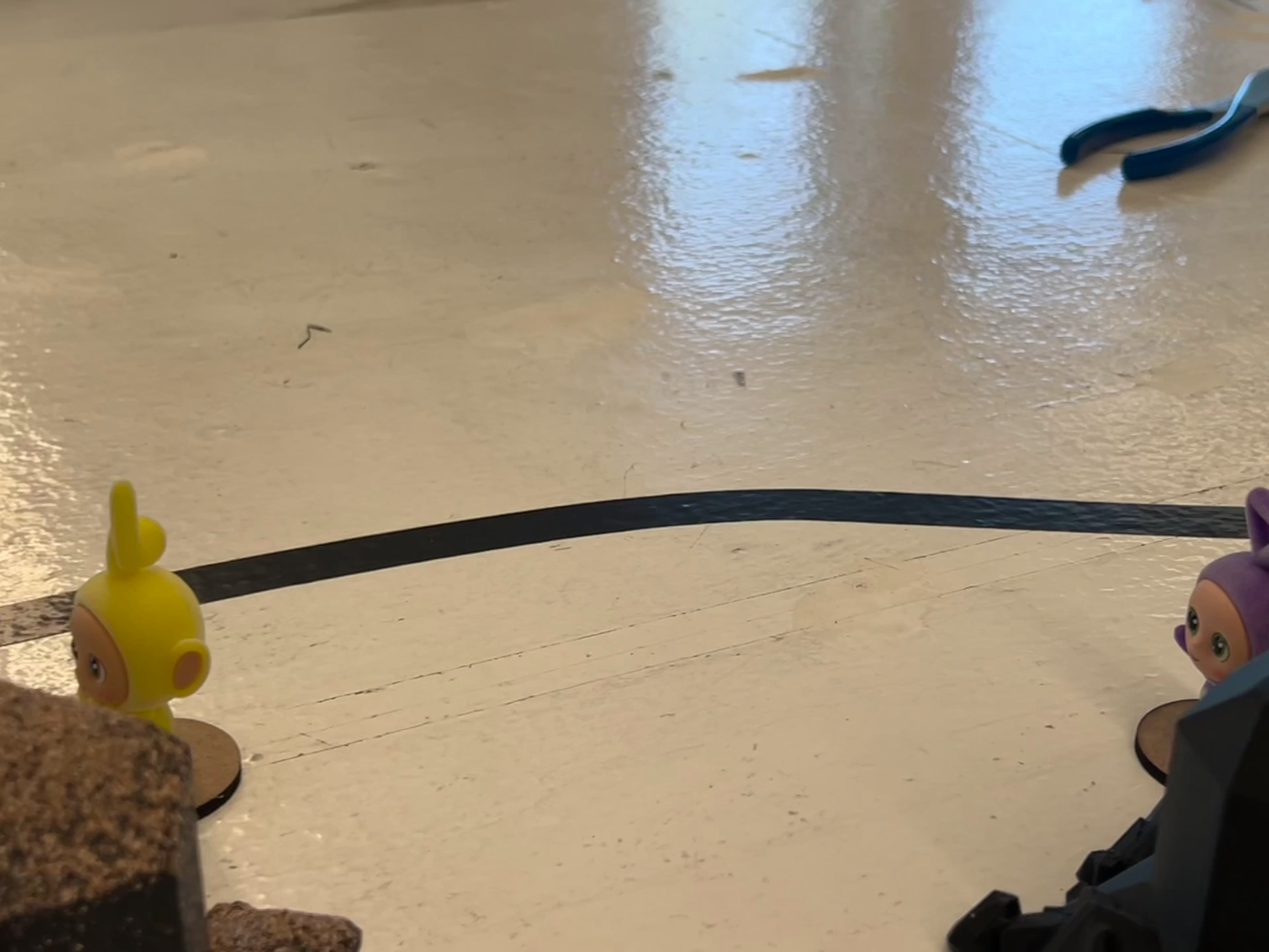teletubby: (69, 481, 210, 731), (1174, 488, 1268, 691)
